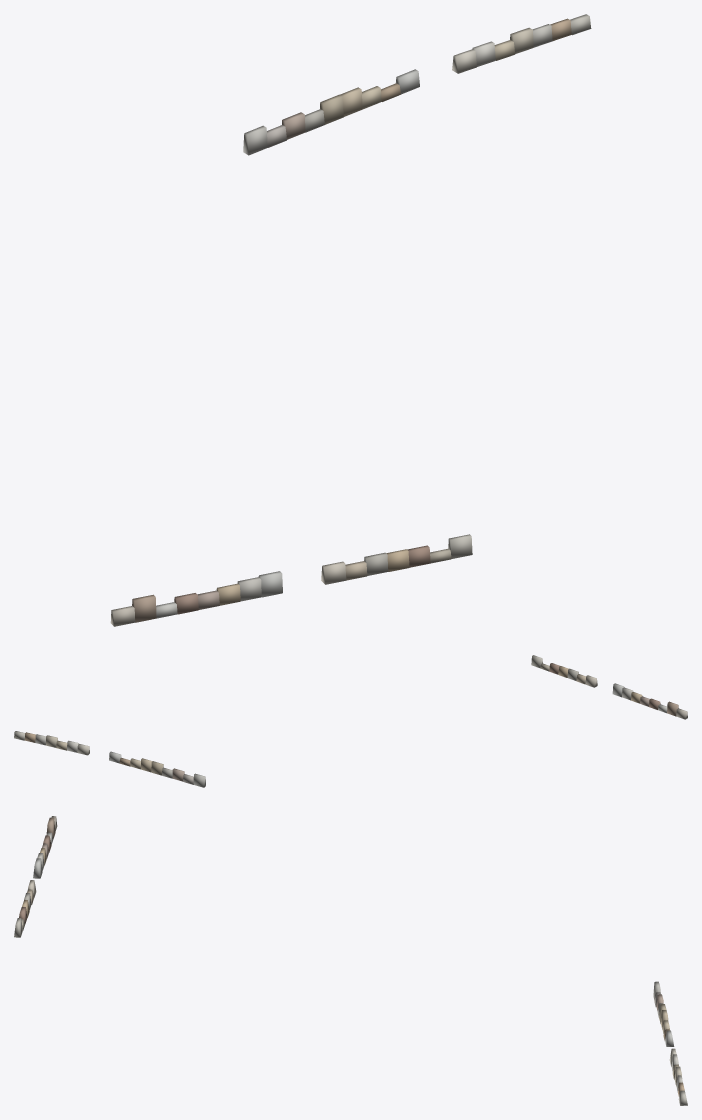
The model's file is farm_11_1_collision.glb.
3 views of the same model, one above another, from view 1: azimuth 30°, elevation 25°; view 2: azimuth 150°, elevation 25°; view 3: azimuth 270°, elevation 25° (orthographic). The views are drawn at different scales.
Visible parts, largest first — view 1: geometry_0; view 2: geometry_0; view 3: geometry_0.
Boxes of the visible parts, x1,y1,x2,y2 form: geometry_0: [110, 14, 591, 626]; geometry_0: [14, 655, 687, 787]; geometry_0: [14, 816, 687, 1105].
Bounding box in the file's own units: 70.34 × 5.47 × 62.1.
